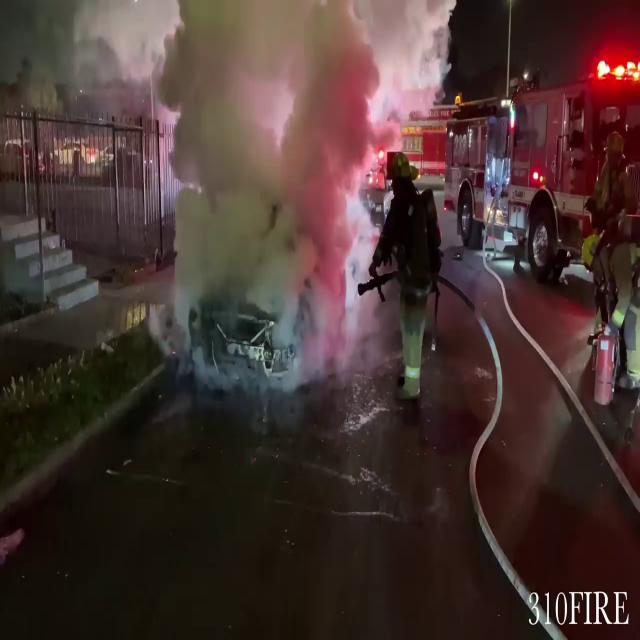Smoke: (148, 0, 402, 360)
